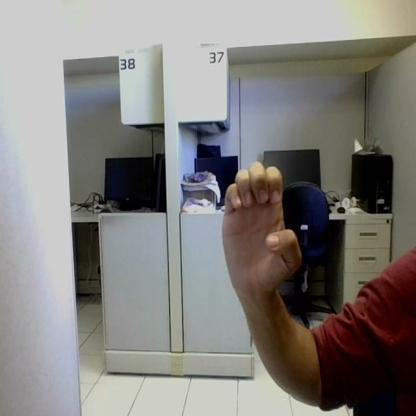E: (222, 162, 302, 289)
